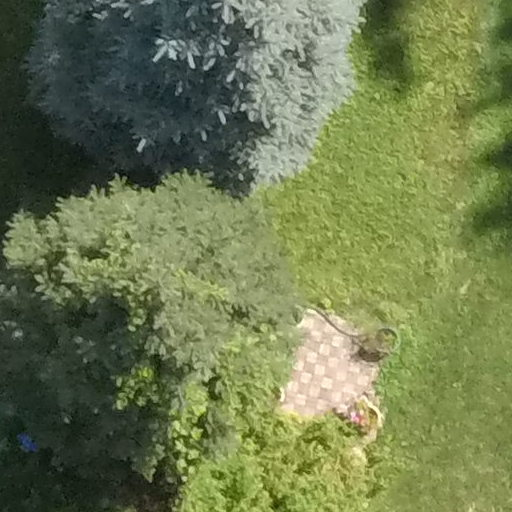container: (362, 317, 403, 357)
flower pot: (338, 392, 385, 439)
pot: (346, 395, 393, 444), (372, 321, 403, 354)
